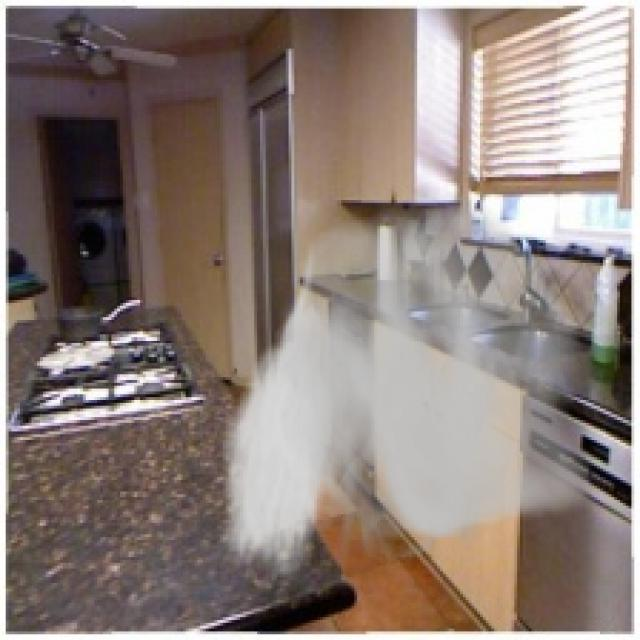smoke: (217, 188, 592, 586)
